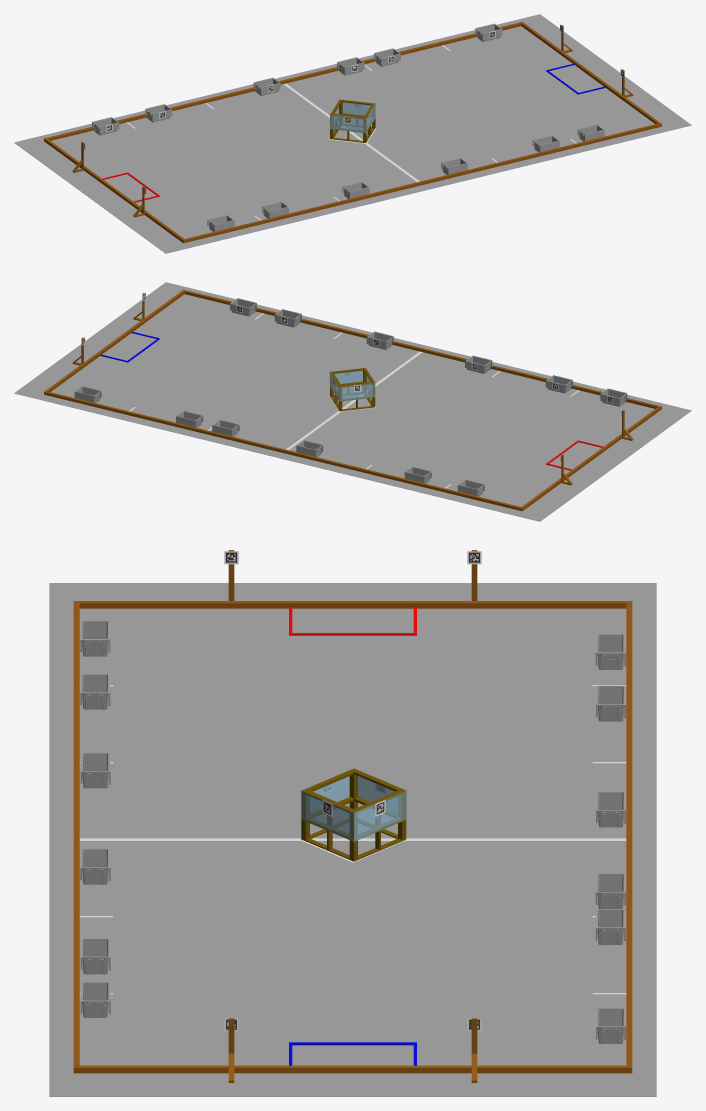
3 renders of one model, top to bottom at view 1: azimuth 30°, elevation 25°; view 2: azimuth 150°, elevation 25°; view 3: azimuth 270°, elevation 25°, orthographic. The views are drawn at different scales.
Parts seen in each view (by area): view 1: Carpet, Field Border, Side Panel, Tape - Midline; view 2: Carpet, Field Border, Side Panel, Tape - Midline; view 3: Carpet, Field Border, FRC Tote (×12), Side Panel (×2), Tape - Midline.
Part boxes in pixels (x1,y1,x2,y2): Carpet: [14, 14, 691, 253]; Field Border: [44, 21, 661, 243]; Side Panel: [330, 114, 365, 133]; Tape - Midline: [283, 83, 419, 182]; Carpet: [14, 282, 691, 521]; Field Border: [44, 289, 661, 511]; Side Panel: [339, 383, 375, 401]; Tape - Midline: [286, 351, 422, 450]; Carpet: [49, 583, 656, 1096]; Field Border: [73, 601, 632, 1073]; FRC Tote (×12): [80, 620, 625, 1043]; Side Panel (×2): [301, 791, 406, 841]; Tape - Midline: [79, 838, 626, 841].
Bounding box in the file's own units: 18.29 × 0.9208 × 9.14.
